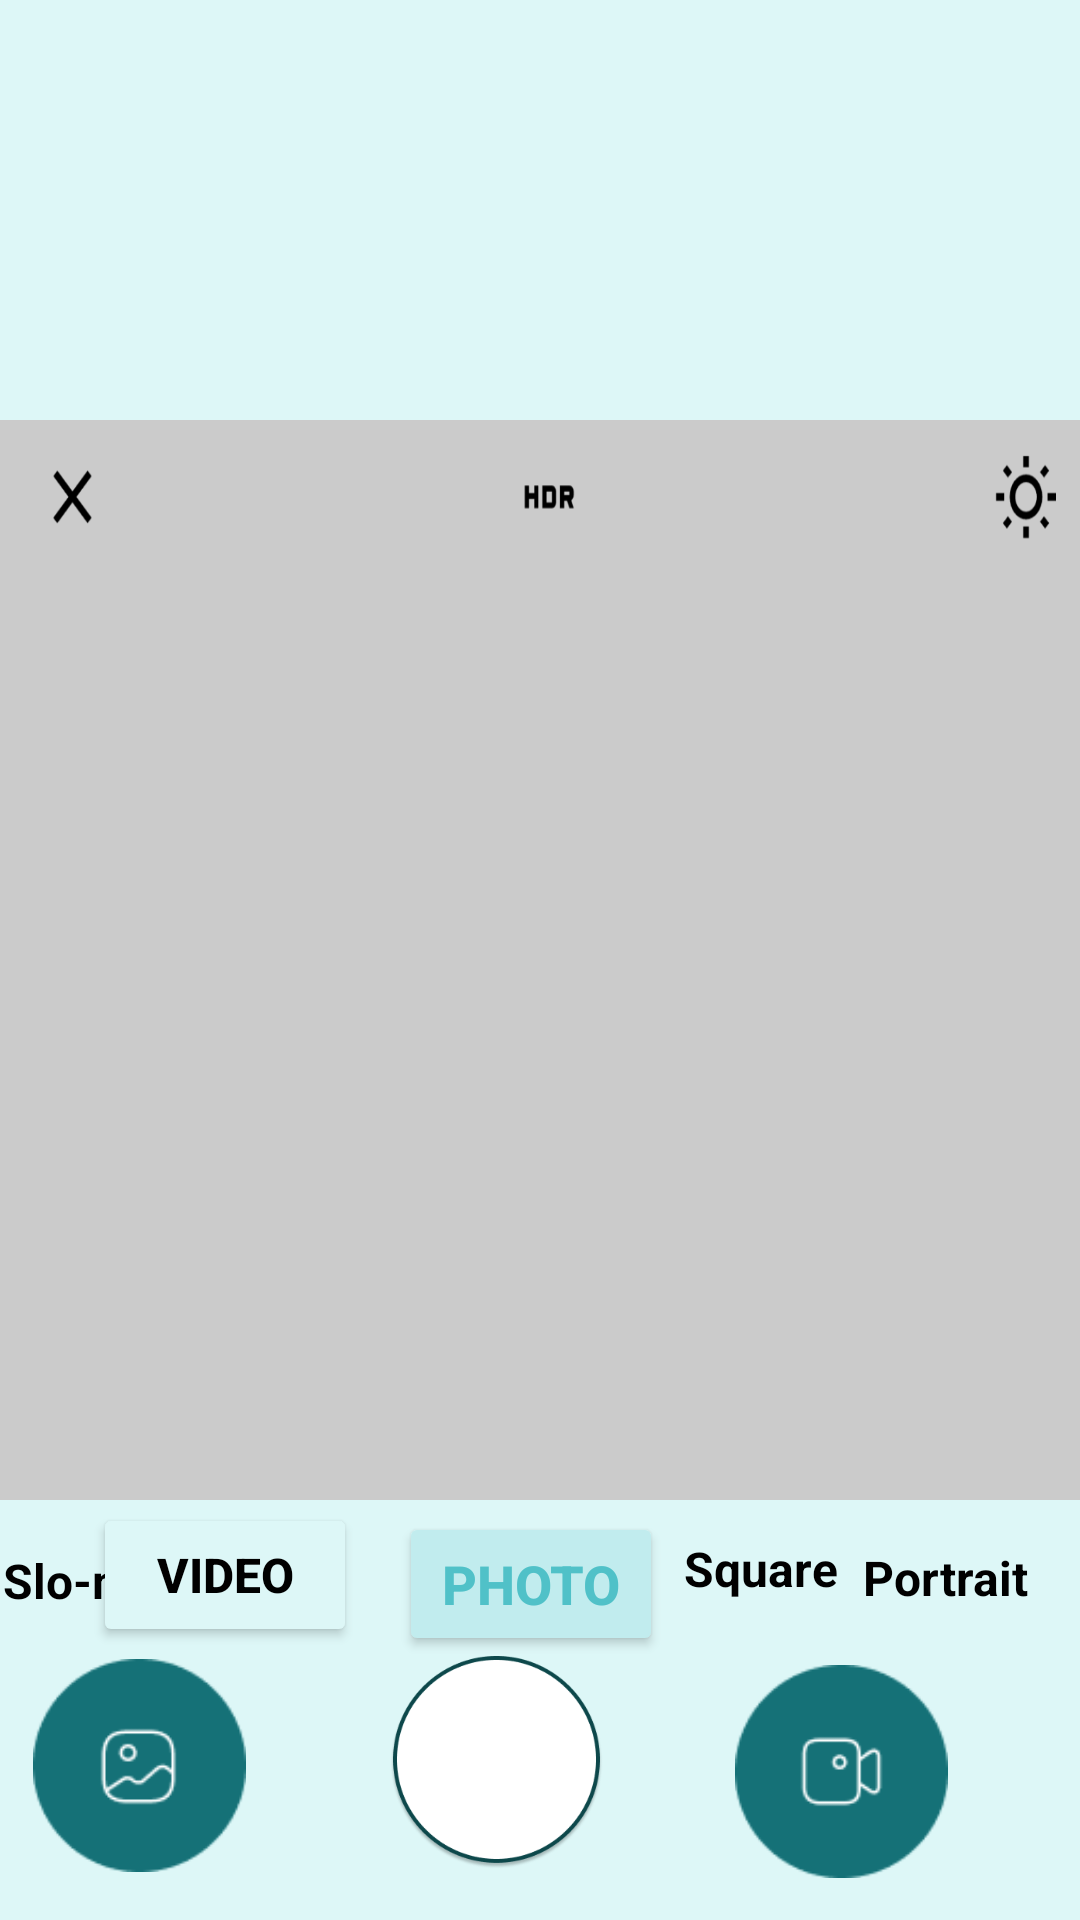

Named icons in this screenshot (1080 x 1920) and their bounding boxes, (x1,y1,x2,y2):
shutter: (393,1656,600,1866)
